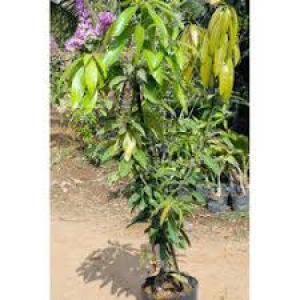Tree: (60, 1, 247, 299)
